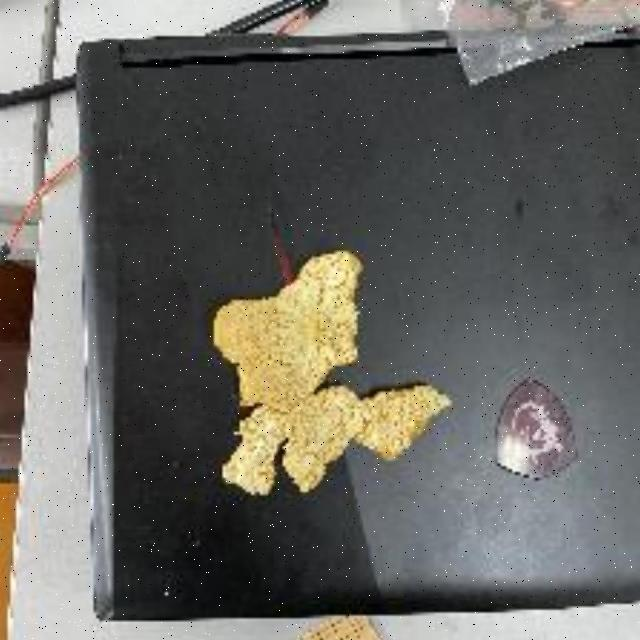orange-peel: (216, 229, 436, 512)
